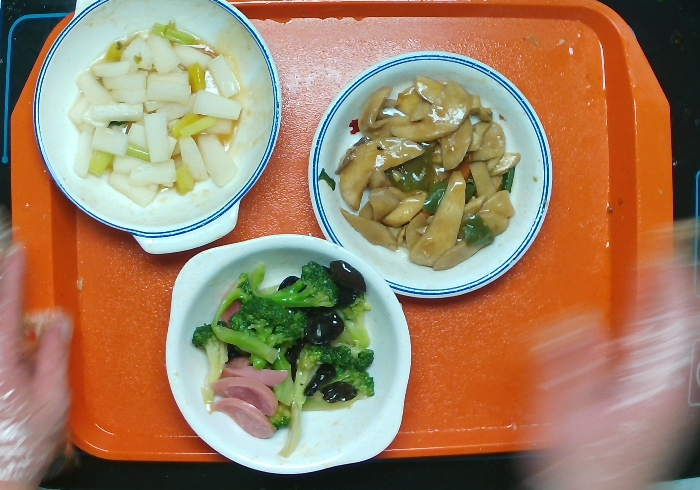HZYJPL-Dai_Er_Bai_Yuan_Wan: (159, 230, 416, 480)
HZYJPL-Lan_Bian_Dai_Er_Wan: (27, 1, 286, 258)
HZYJPL-Lan_Bian_Yuan_Die: (303, 46, 556, 305)
